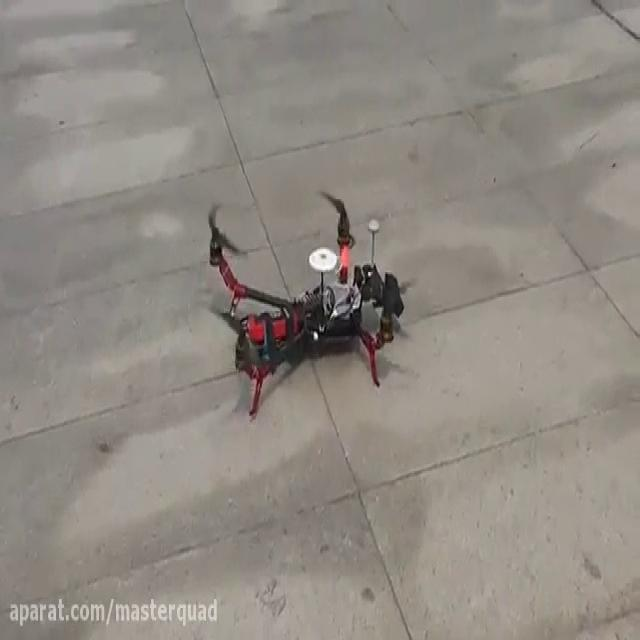drone: (189, 181, 424, 418)
